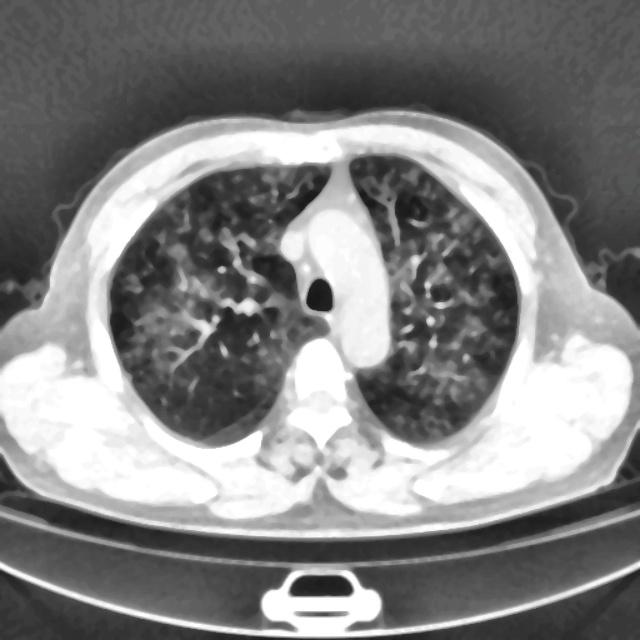covid: (1, 106, 638, 536)
